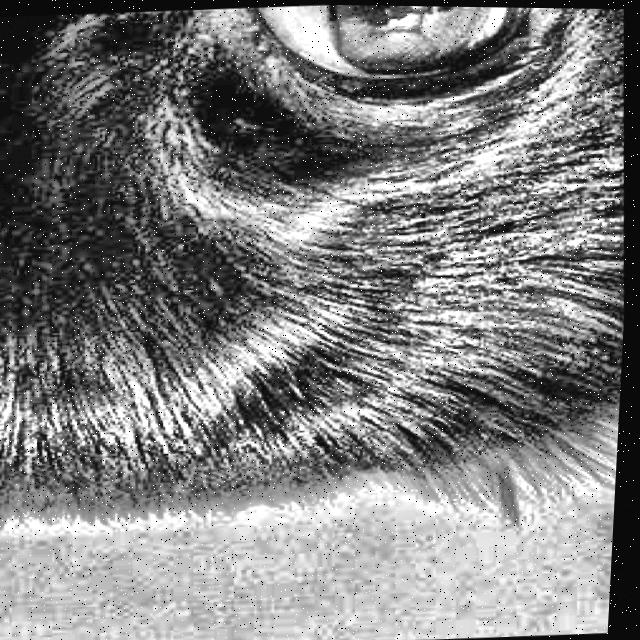dog: (0, 0, 640, 607)
